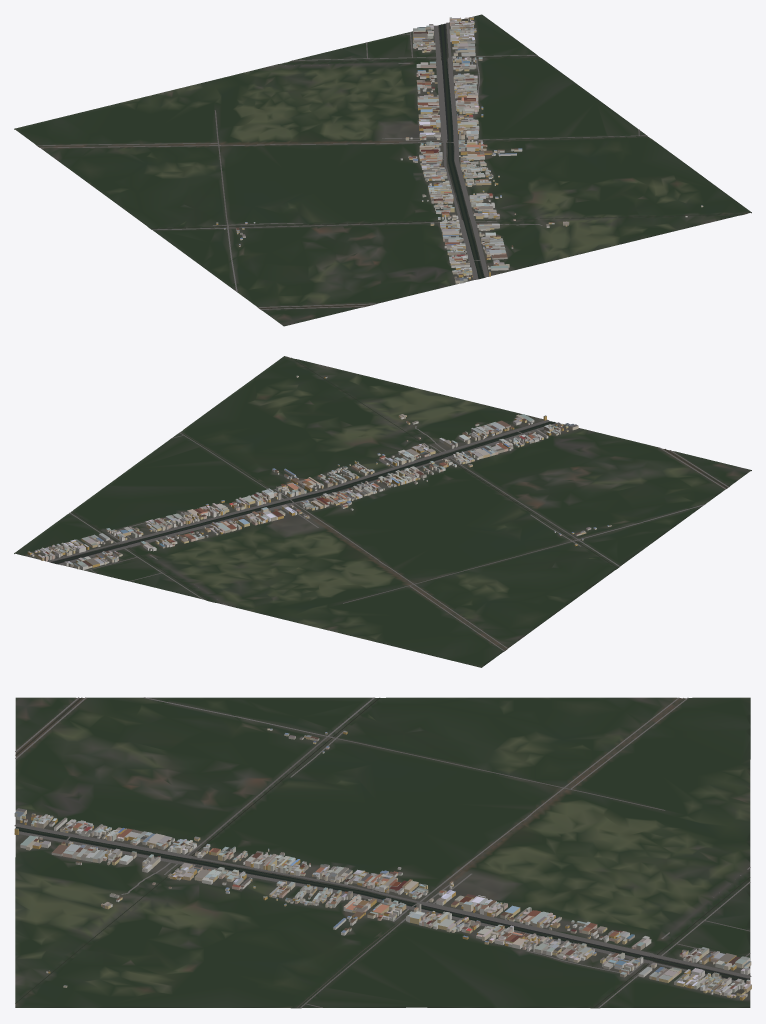
3 renders of one model, top to bottom at view 1: azimuth 30°, elevation 25°; view 2: azimuth 150°, elevation 25°; view 3: azimuth 270°, elevation 25°, orthographic. The views are drawn at different scales.
Parts seen in each view (by area): view 1: ground, buildings, roads, water; view 2: ground, buildings, roads, water; view 3: ground, buildings, roads, water.
Boxes of the visible parts, x1=… form: ground: x1=14, y1=14, x2=751, y2=326; buildings: x1=216, y1=17, x2=703, y2=283; roads: x1=37, y1=22, x2=646, y2=309; water: x1=38, y1=23, x2=744, y2=308; ground: x1=14, y1=356, x2=751, y2=667; buildings: x1=27, y1=375, x2=611, y2=569; roads: x1=48, y1=419, x2=728, y2=651; water: x1=51, y1=357, x2=727, y2=649; ground: x1=15, y1=697, x2=750, y2=1008; buildings: x1=14, y1=727, x2=751, y2=1000; roads: x1=14, y1=697, x2=751, y2=1007; water: x1=15, y1=697, x2=750, y2=1007.
Size of the model in its own units: 1403 by 22.93 by 1406.
